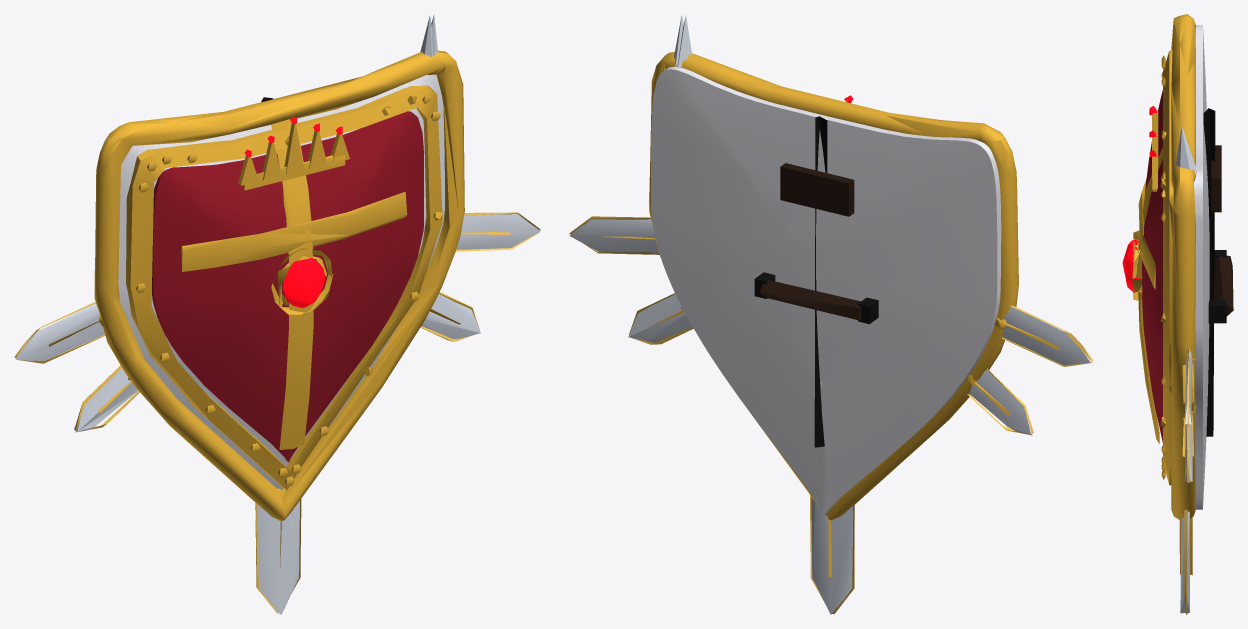
Rendered from greatshield_3.glb.
The picture shows the model from 3 angles, left to right: view 1: azimuth 30°, elevation 25°; view 2: azimuth 150°, elevation 25°; view 3: azimuth 270°, elevation 25°; orthographic projection.
Visible parts, largest first — view 1: greatshield_3; view 2: greatshield_3; view 3: greatshield_3.
Part boxes in pixels (<box>): greatshield_3: <box>14,14,540,614</box>; greatshield_3: <box>569,14,1093,614</box>; greatshield_3: <box>1122,14,1233,614</box>.
Size of the model in its own units: 1.07 by 1.09 by 0.1962.
